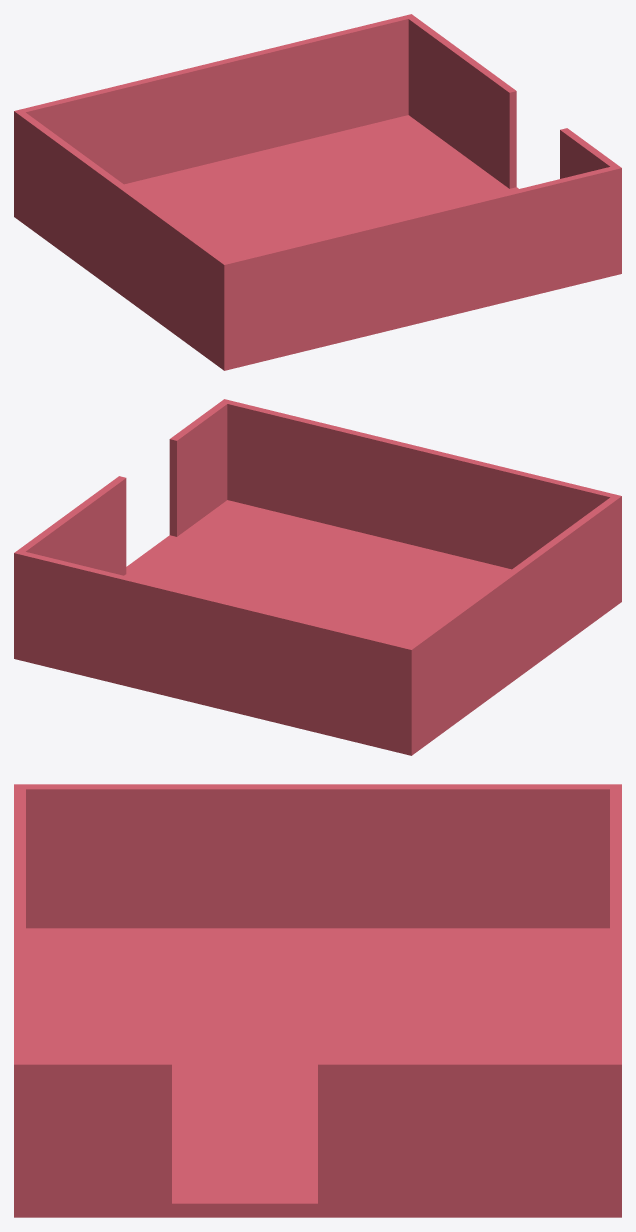
The model's file is roomtest2.glb.
3 renders of one model, top to bottom at view 1: azimuth 30°, elevation 25°; view 2: azimuth 150°, elevation 25°; view 3: azimuth 270°, elevation 25°, orthographic. The views are drawn at different scales.
Parts seen in each view (by area): view 1: room; view 2: room; view 3: room.
Boxes of the visible parts, bbox=[...] form: room: bbox=[14, 14, 621, 370]; room: bbox=[14, 399, 621, 755]; room: bbox=[14, 784, 621, 1217].
Bounding box in the file's own units: 7.86 × 2 × 7.21.
